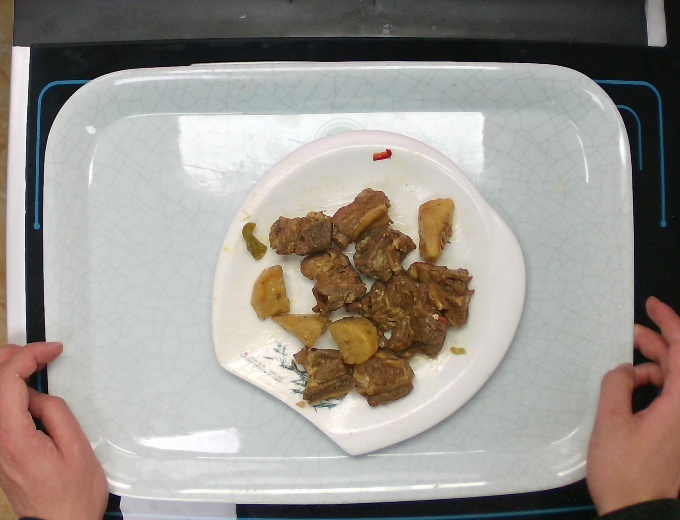JYsf-Mian_Pan: (206, 126, 530, 461)
